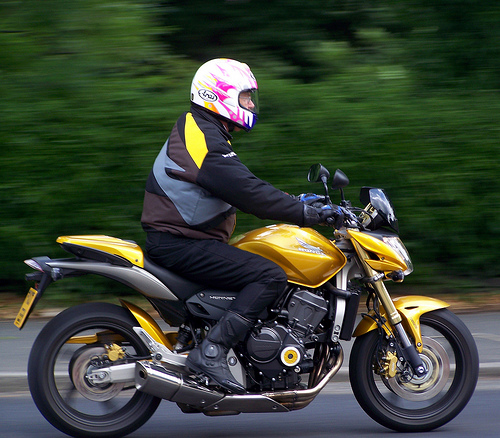helmet: (186, 55, 259, 130)
